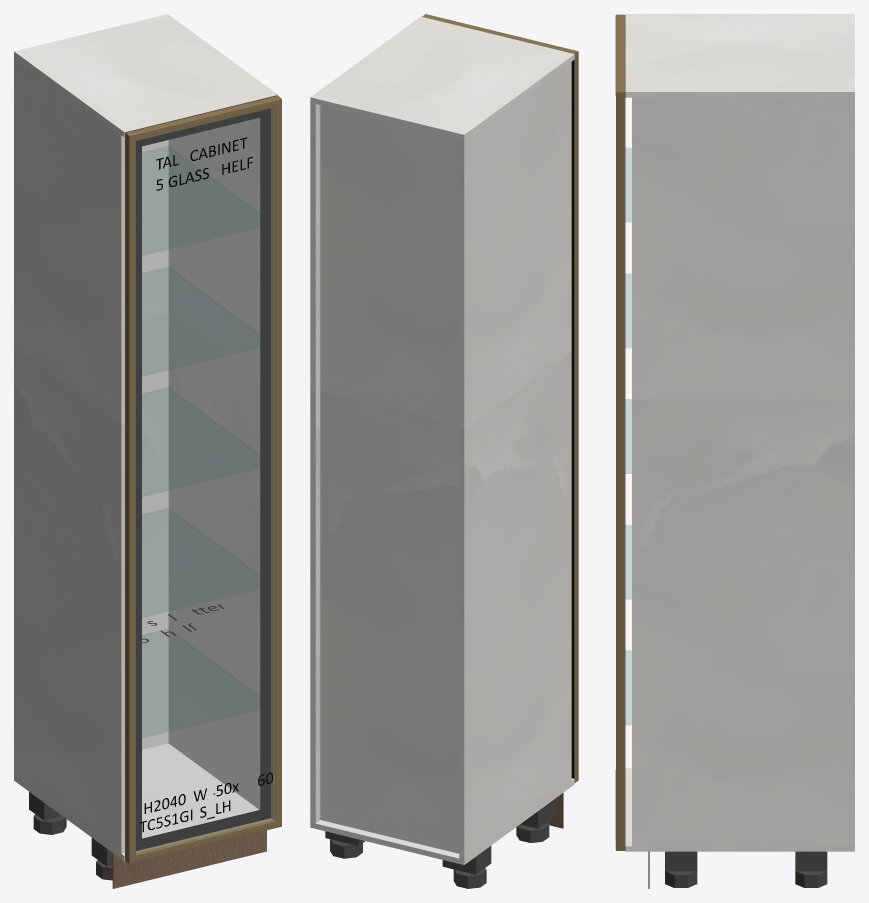
The model's file is TC-SH-STD-GL-5SG-LHS-XXX-450-2040-560-15.glb.
The picture shows the model from 3 angles, left to right: view 1: azimuth 30°, elevation 25°; view 2: azimuth 150°, elevation 25°; view 3: azimuth 270°, elevation 25°; orthographic projection. The views are drawn at different scales.
Parts seen in each view (by area): view 1: Object_node_30, TP_node_0, TP_node_1, Neon 22 Profile ALU PROF NEON 20 L21XH22.5MM 3MTR S2/405 SEC (×4), TP, TP_node_2, Object_node_32, TP_node, Object_node_34, 2D text, 2D text_node_0; view 2: TP_node_2, TP_node_0, TP, TP_node_1, Neon 22 Profile ALU PROF NEON 20 L21XH22.5MM 3MTR S2/405 SEC (×2), Object_node_32, TP_node, Plate, Foot; view 3: TP_node_1, TP, Neon 22 Profile ALU PROF NEON 20 L21XH22.5MM 3MTR S2/405 SEC (×2), TP_node, Object_node_32, Plate_node_1, Plate_node, Foot_node, Foot_node_1.
Part boxes in pixels (x1,y1,x2,y2): Object_node_30: (136,108,274,854); TP_node_0: (14,57,124,853); TP_node_1: (168,117,260,809); Neon 22 Profile ALU PROF NEON 20 L21XH22.5MM 3MTR S2/405 SEC (×4): (125,95,281,863); TP: (14,14,277,137); TP_node_2: (142,140,168,749); Object_node_32: (125,95,277,850); TP_node: (14,743,258,861); Object_node_34: (112,830,266,888); 2D text: (156,137,252,190); 2D text_node_0: (144,772,272,813); TP_node_2: (320,105,459,853); TP_node_0: (459,62,571,859); TP: (310,16,574,140); TP_node_1: (310,103,320,823); Neon 22 Profile ALU PROF NEON 20 L21XH22.5MM 3MTR S2/405 SEC (×2): (422,14,578,782); Object_node_32: (571,60,574,778); TP_node: (310,778,574,864); Plate: (442,846,491,874); Foot: (453,868,486,888); TP_node_1: (632,97,854,846); TP: (625,14,854,97); Neon 22 Profile ALU PROF NEON 20 L21XH22.5MM 3MTR S2/405 SEC (×2): (615,15,624,850); TP_node: (625,768,854,851); Object_node_32: (625,15,625,850); Plate_node_1: (665,851,697,871); Plate_node: (795,851,827,871); Foot_node: (795,871,827,887); Foot_node_1: (665,871,697,887).
Size of what is drawn, in the model's own units: 0.45 by 2.14 by 0.6034.
Materials: 9 (2 with a texture image).
